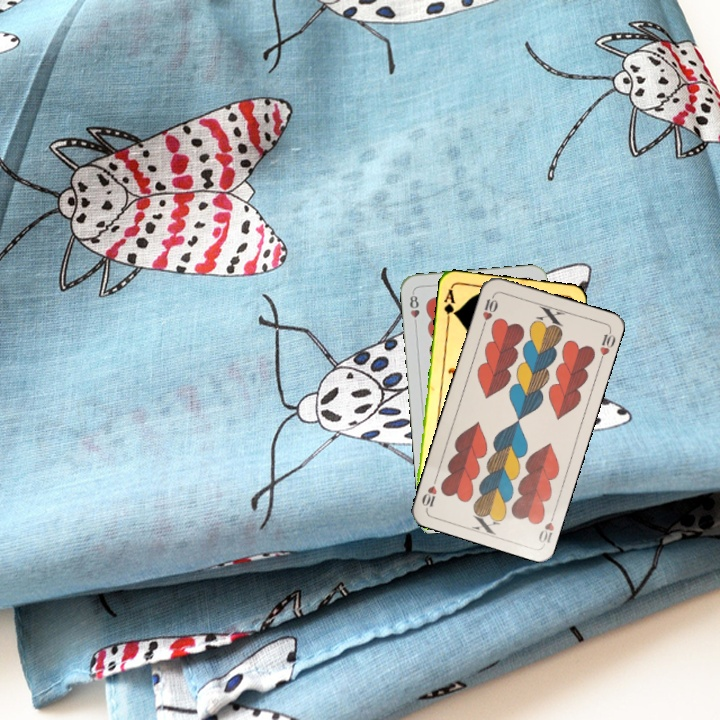GA: (440, 285, 459, 325)
H10: (534, 507, 558, 547), (478, 291, 500, 330)
H8: (406, 289, 422, 329)
